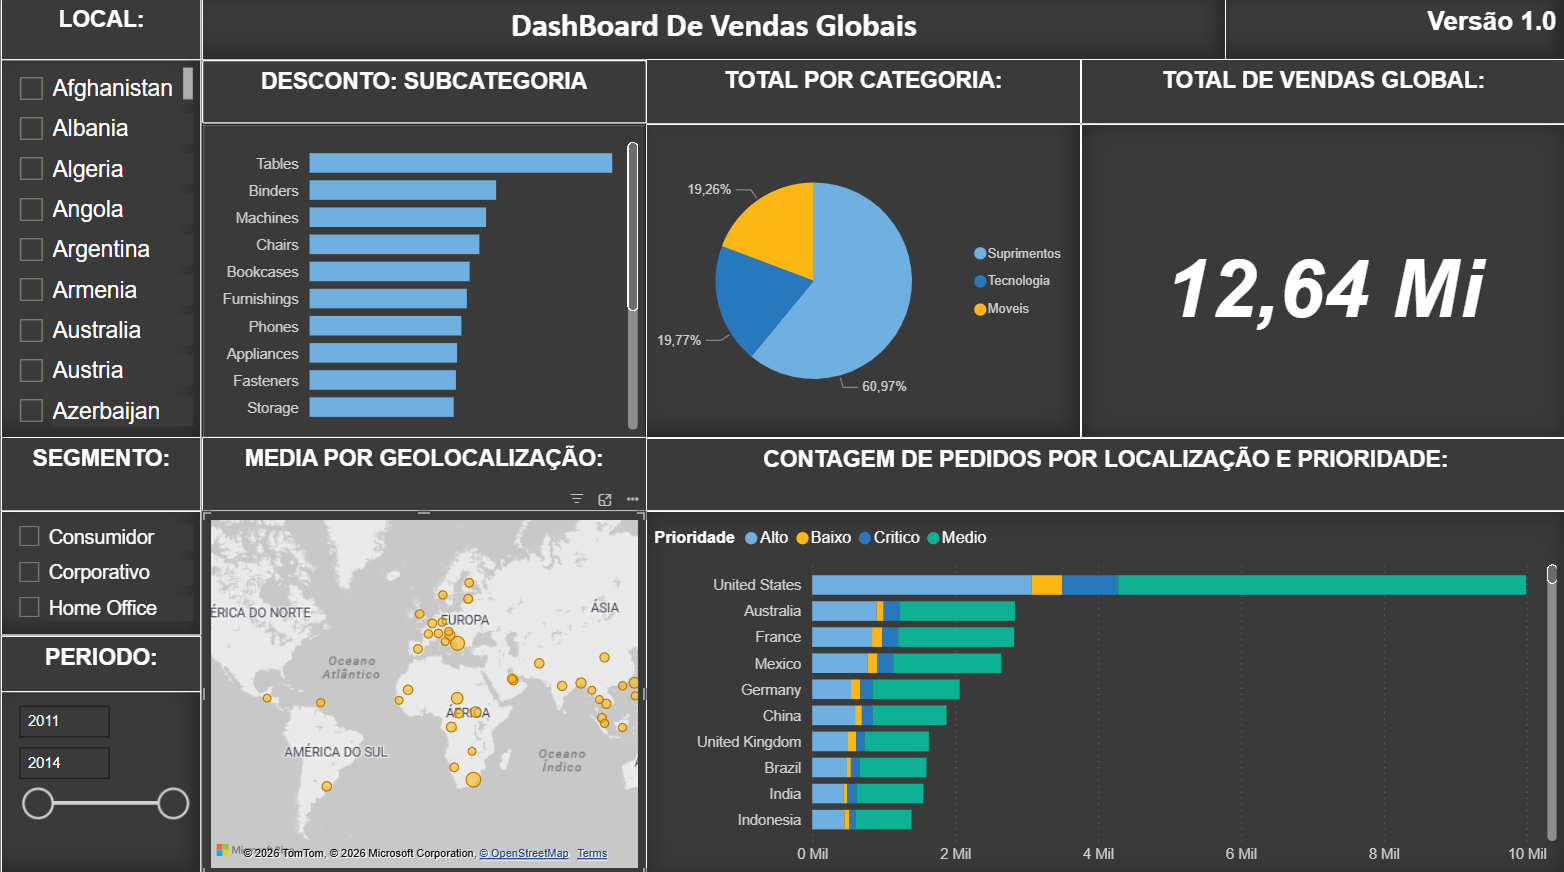

The dashboard page shown, as its layout file describes it:
{"tool":"powerbi","page":{"name":"VENDAS GLOBAIS","canvas":[1280,720],"ordinal":0},"visuals":[{"type":"card","title":"Total De Vendas Global:","fields":{"Values":["Sum(dataset.Total_Vendas)"]},"box":[883.3,103.6,396.9,257.3],"z":0},{"type":"pieChart","title":"Total De Vendas Por Categoria:","fields":{"Category":["dataset.Categoria"],"Y":["CountNonNull(dataset.ID_Pedido)"]},"box":[527.6,103.5,355.5,256.5],"z":1000},{"type":"barChart","title":"Contagem De Pedidios Por Localização e Prioridade:","fields":{"Category":["dataset.Pais"],"Y":["CountNonNull(dataset.ID_Pedido)"],"Series":["dataset.Prioridade"]},"box":[527.7,420.6,752.5,299.4],"z":2000},{"type":"barChart","title":"Desconto Por SubCategoria:","fields":{"Category":["dataset.SubCategoria"],"Y":["Avg(dataset.Desconto)"]},"box":[164.2,103.6,363.5,257.3],"z":3000},{"type":"map","title":"Media De Vendas Por Geolocalização:","fields":{"Category":["dataset.Pais"],"Size":["Avg(dataset.Total_Vendas)"]},"box":[164.2,420.6,363.5,299.4],"z":4000},{"type":"slicer","title":"País:","fields":{"Values":["dataset.Pais"]},"box":[0,50.9,164.2,310],"z":5000},{"type":"slicer","fields":{"Values":["dataset.Segmento"]},"box":[0,420.6,164.2,101.9],"z":6000},{"type":"slicer","fields":{"Values":["dataset.Data_Pedido.Variation.Hierarquia de datas.Ano"]},"box":[0,568.1,164.2,151],"z":7000},{"type":"textbox","box":[164.2,0,837.7,51.8],"z":9000},{"type":"textbox","box":[1001.9,0.9,278.3,50.9],"z":10000},{"type":"textbox","box":[0,0.9,164.2,50.9],"z":10001},{"type":"textbox","box":[164.2,51.8,363.5,51.8],"z":10002},{"type":"textbox","box":[527.7,50.9,355.6,52.7],"z":10003},{"type":"textbox","box":[883.3,50.9,396.9,52.7],"z":10004},{"type":"textbox","box":[0,360,164.2,60.6],"z":10005},{"type":"textbox","box":[0,522.4,164.2,45.7],"z":10006},{"type":"textbox","box":[164.2,360,363.5,60.6],"z":10007},{"type":"textbox","box":[527.7,360.9,752.5,59.7],"z":10008}]}

Visuals, with their boxes in screenshot pixels (x1, y1, x2, y2), scaled from the page's 1280x720 canvas onto the 1564x872 screenshot:
"Total De Vendas Global:" card: select_region(1079, 125, 1563, 437)
"Total De Vendas Por Categoria:" pieChart: select_region(645, 125, 1079, 436)
"Contagem De Pedidios Por Localização e Prioridade:" barChart: select_region(645, 509, 1563, 871)
"Desconto Por SubCategoria:" barChart: select_region(201, 125, 645, 437)
"Media De Vendas Por Geolocalização:" map: select_region(201, 509, 645, 871)
"País:" slicer: select_region(0, 62, 201, 437)
slicer - dataset.Segmento: select_region(0, 509, 201, 633)
slicer - dataset.Data_Pedido.Variation.Hierarquia de datas.Ano: select_region(0, 688, 201, 871)
textbox: select_region(201, 0, 1224, 63)
textbox: select_region(1224, 1, 1563, 63)
textbox: select_region(0, 1, 201, 63)
textbox: select_region(201, 63, 645, 125)
textbox: select_region(645, 62, 1079, 125)
textbox: select_region(1079, 62, 1563, 125)
textbox: select_region(0, 436, 201, 509)
textbox: select_region(0, 633, 201, 688)
textbox: select_region(201, 436, 645, 509)
textbox: select_region(645, 437, 1563, 509)
